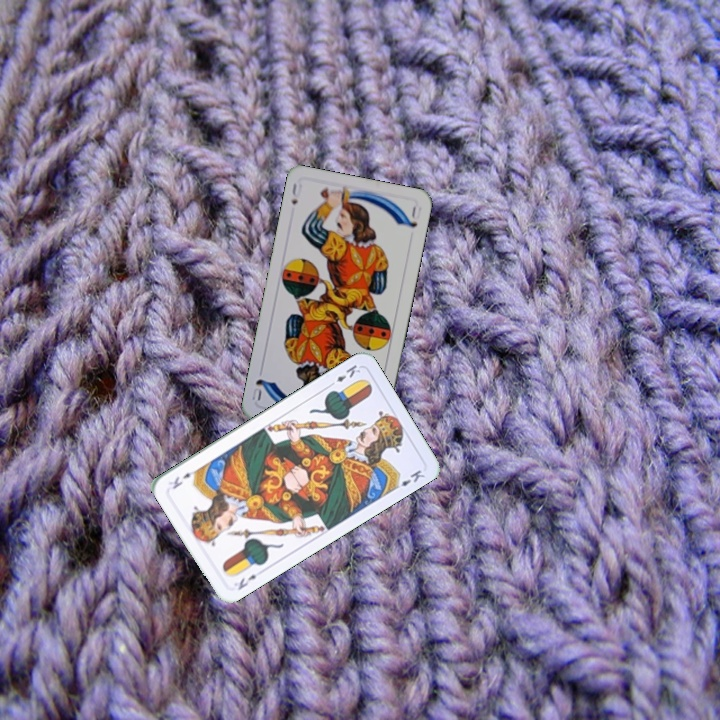EK: (325, 361, 363, 389), (234, 570, 259, 593)
SU: (287, 179, 305, 207)
